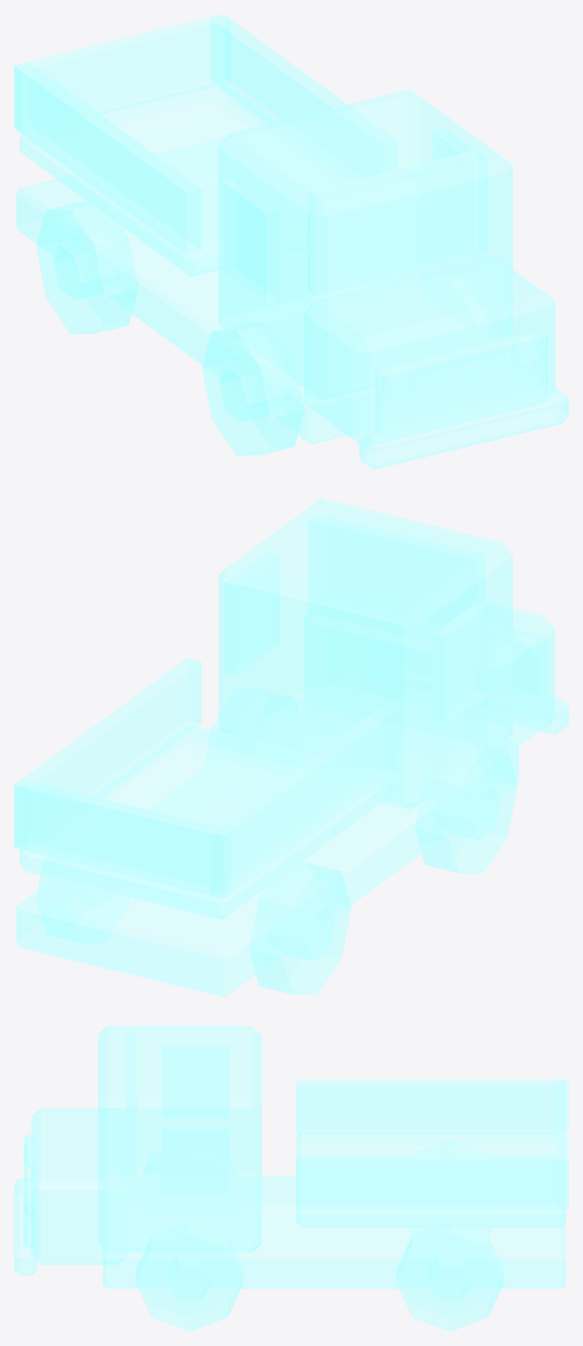
The model's file is GH_Vehicle_CargoTruck.fbx.
3 renders of one model, top to bottom at view 1: azimuth 30°, elevation 25°; view 2: azimuth 150°, elevation 25°; view 3: azimuth 270°, elevation 25°, orthographic. The views are drawn at different scales.
Parts seen in each view (by area): view 1: SM_Vehicle_CargoTruck; view 2: SM_Vehicle_CargoTruck; view 3: SM_Vehicle_CargoTruck.
Part boxes in pixels (left/top/right/bottom): SM_Vehicle_CargoTruck: left=14, top=14, right=568, bottom=469; SM_Vehicle_CargoTruck: left=14, top=498, right=568, bottom=997; SM_Vehicle_CargoTruck: left=14, top=1026, right=568, bottom=1331.
Size of the model in its own units: 1.19 by 1.28 by 2.88.
